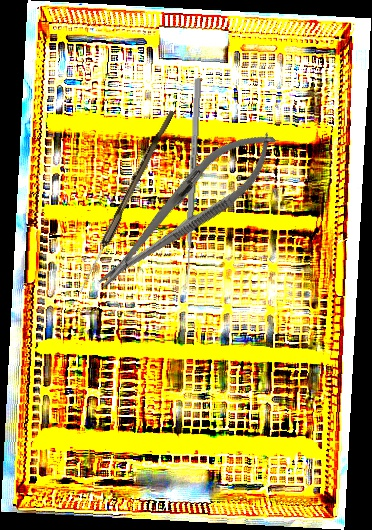Needle Holder: (81, 113, 290, 306)
Pusher: (183, 77, 202, 290)
Surgical Spoon: (77, 108, 175, 294)
